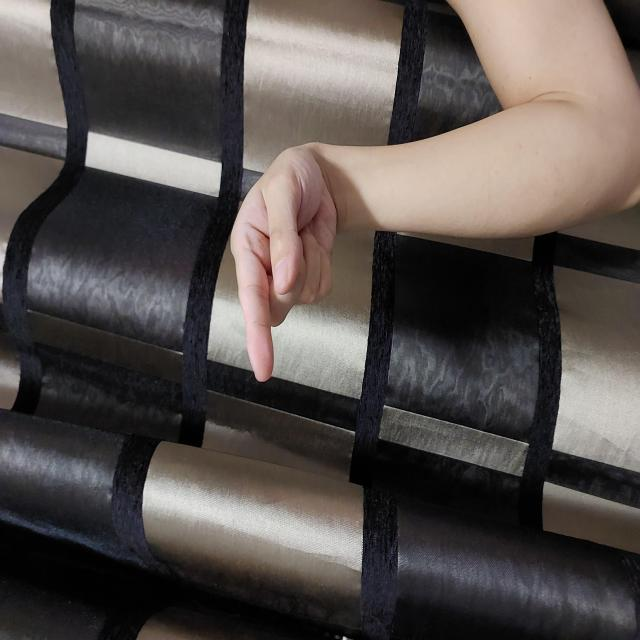Z: (256, 229, 492, 337)
